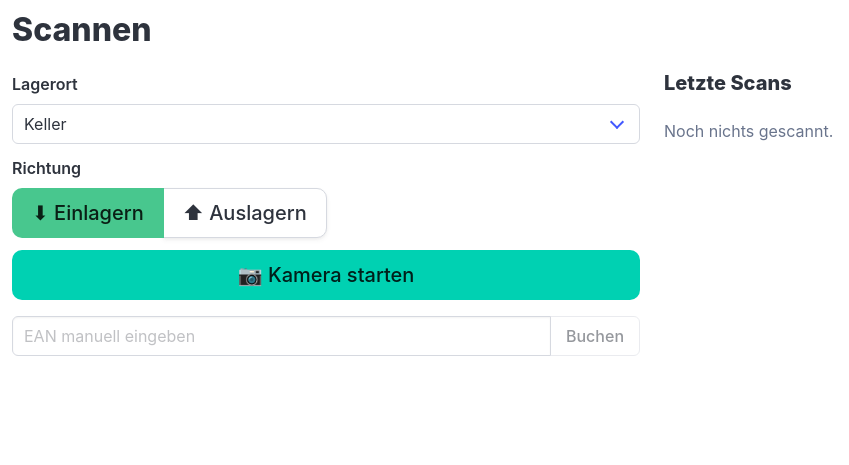
it: ScanPage › reports camera errors
What coordinates should you click on to do the following:
click the button "📷 Kamera starten"
I would click on:
 (326, 275)
Its box is 12,250 -> 640,300.
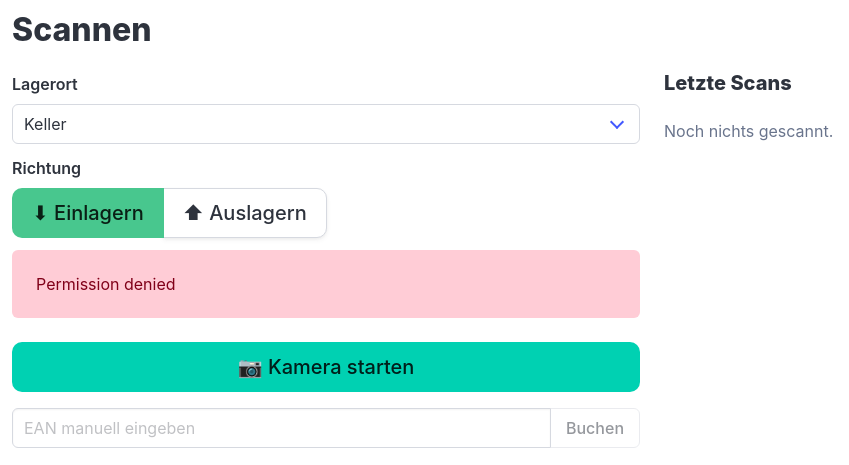
Now the text "Permission denied" is shown, box 12,250 -> 640,318
What coordinates should you click on to do the following:
click the button "📷 Kamera starten"
I would click on:
 (326, 367)
Its box is 12,342 -> 640,392.
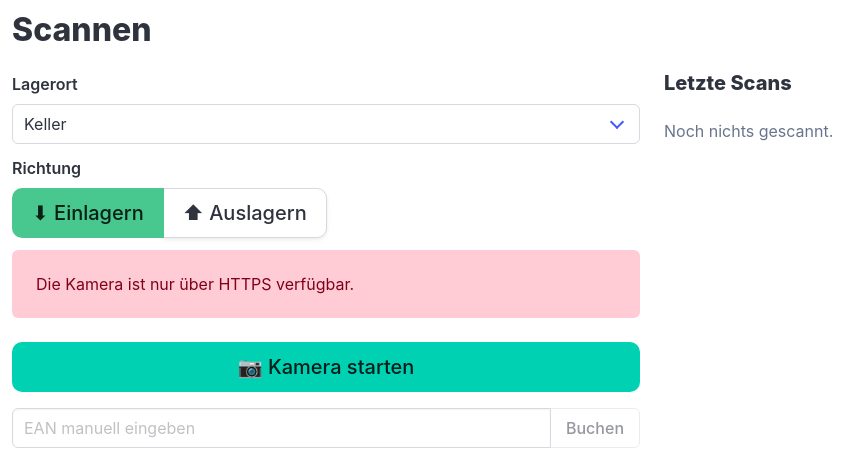
Now the text "Die Kamera ist nur über HTTPS verfügbar." is shown, box 12,250 -> 640,318
